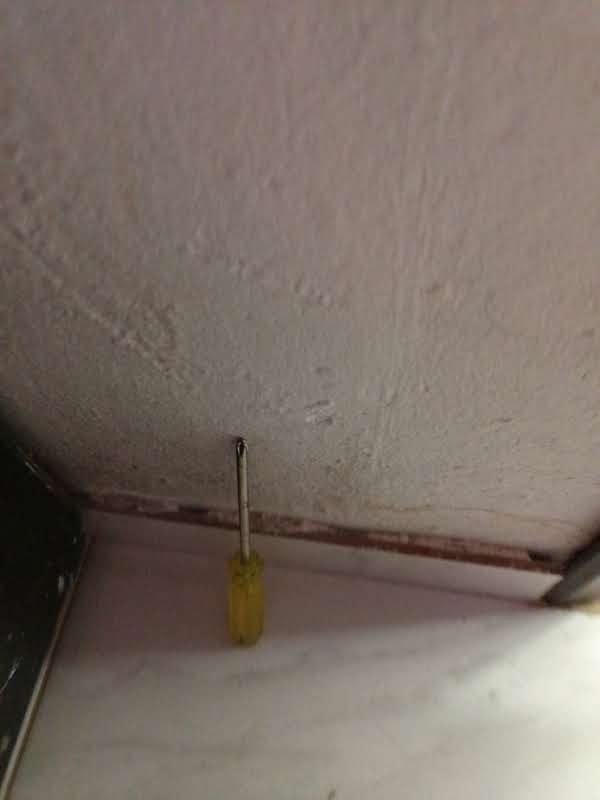Destornillador: (229, 438, 263, 644)
